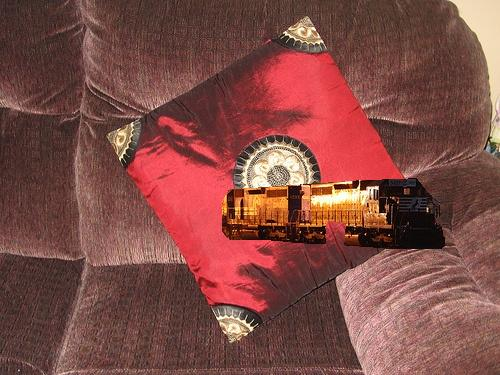tampered: (223, 179, 445, 249)
